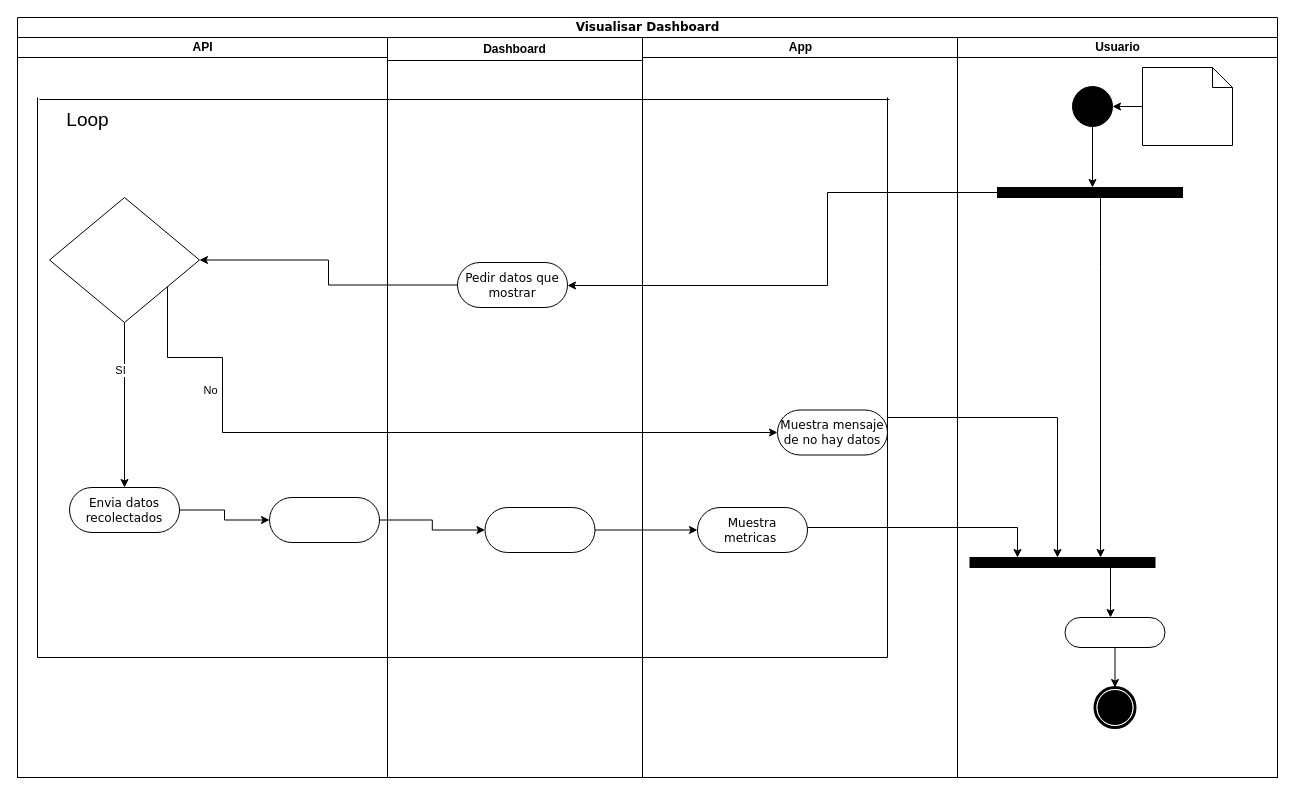
The diagram is 1295 pixels wide and 795 high, and some of its shapes have lost their labels. Each missing label, with the centre of its shape:
"Organiza los datos" belongs at point (324, 519).
"Recibe datos" belongs at point (539, 529).
"Usuario Autenticado" belongs at point (1187, 106).
"Visualizar Dashboard" belongs at point (1114, 632).
"¿Encuentra datos en la base de datos?" belongs at point (124, 259).
